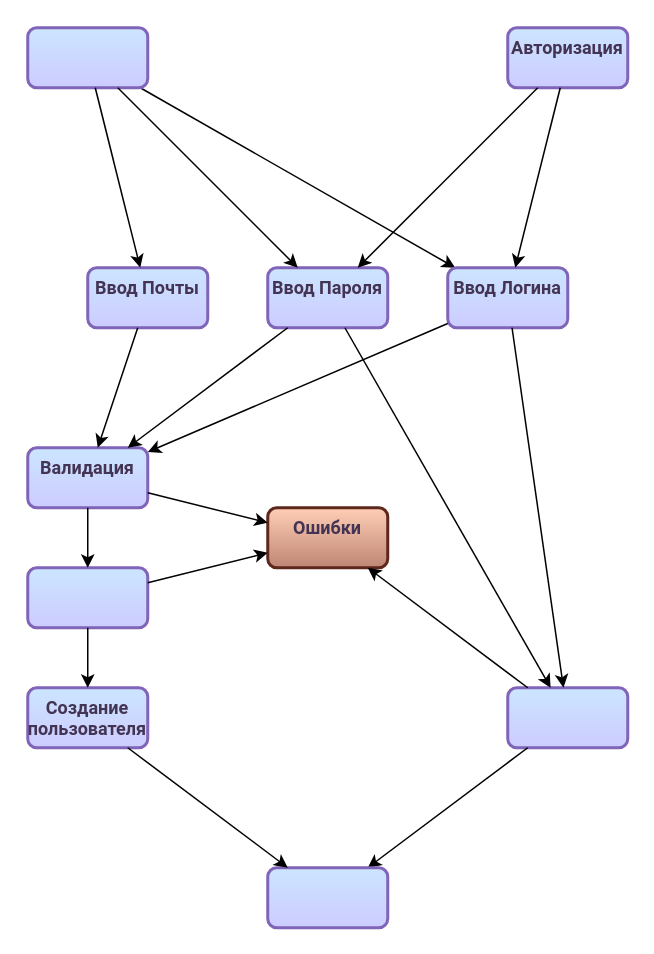
Image size: 654x954. Some labels were removed from this diagram. Each missing label, with the centre of its shape:
Запись в сессию: (x=327, y=897)
Проверка наличия user: (x=87, y=597)
Проверка совпадения: (x=567, y=717)
Регистрация: (x=87, y=57)
